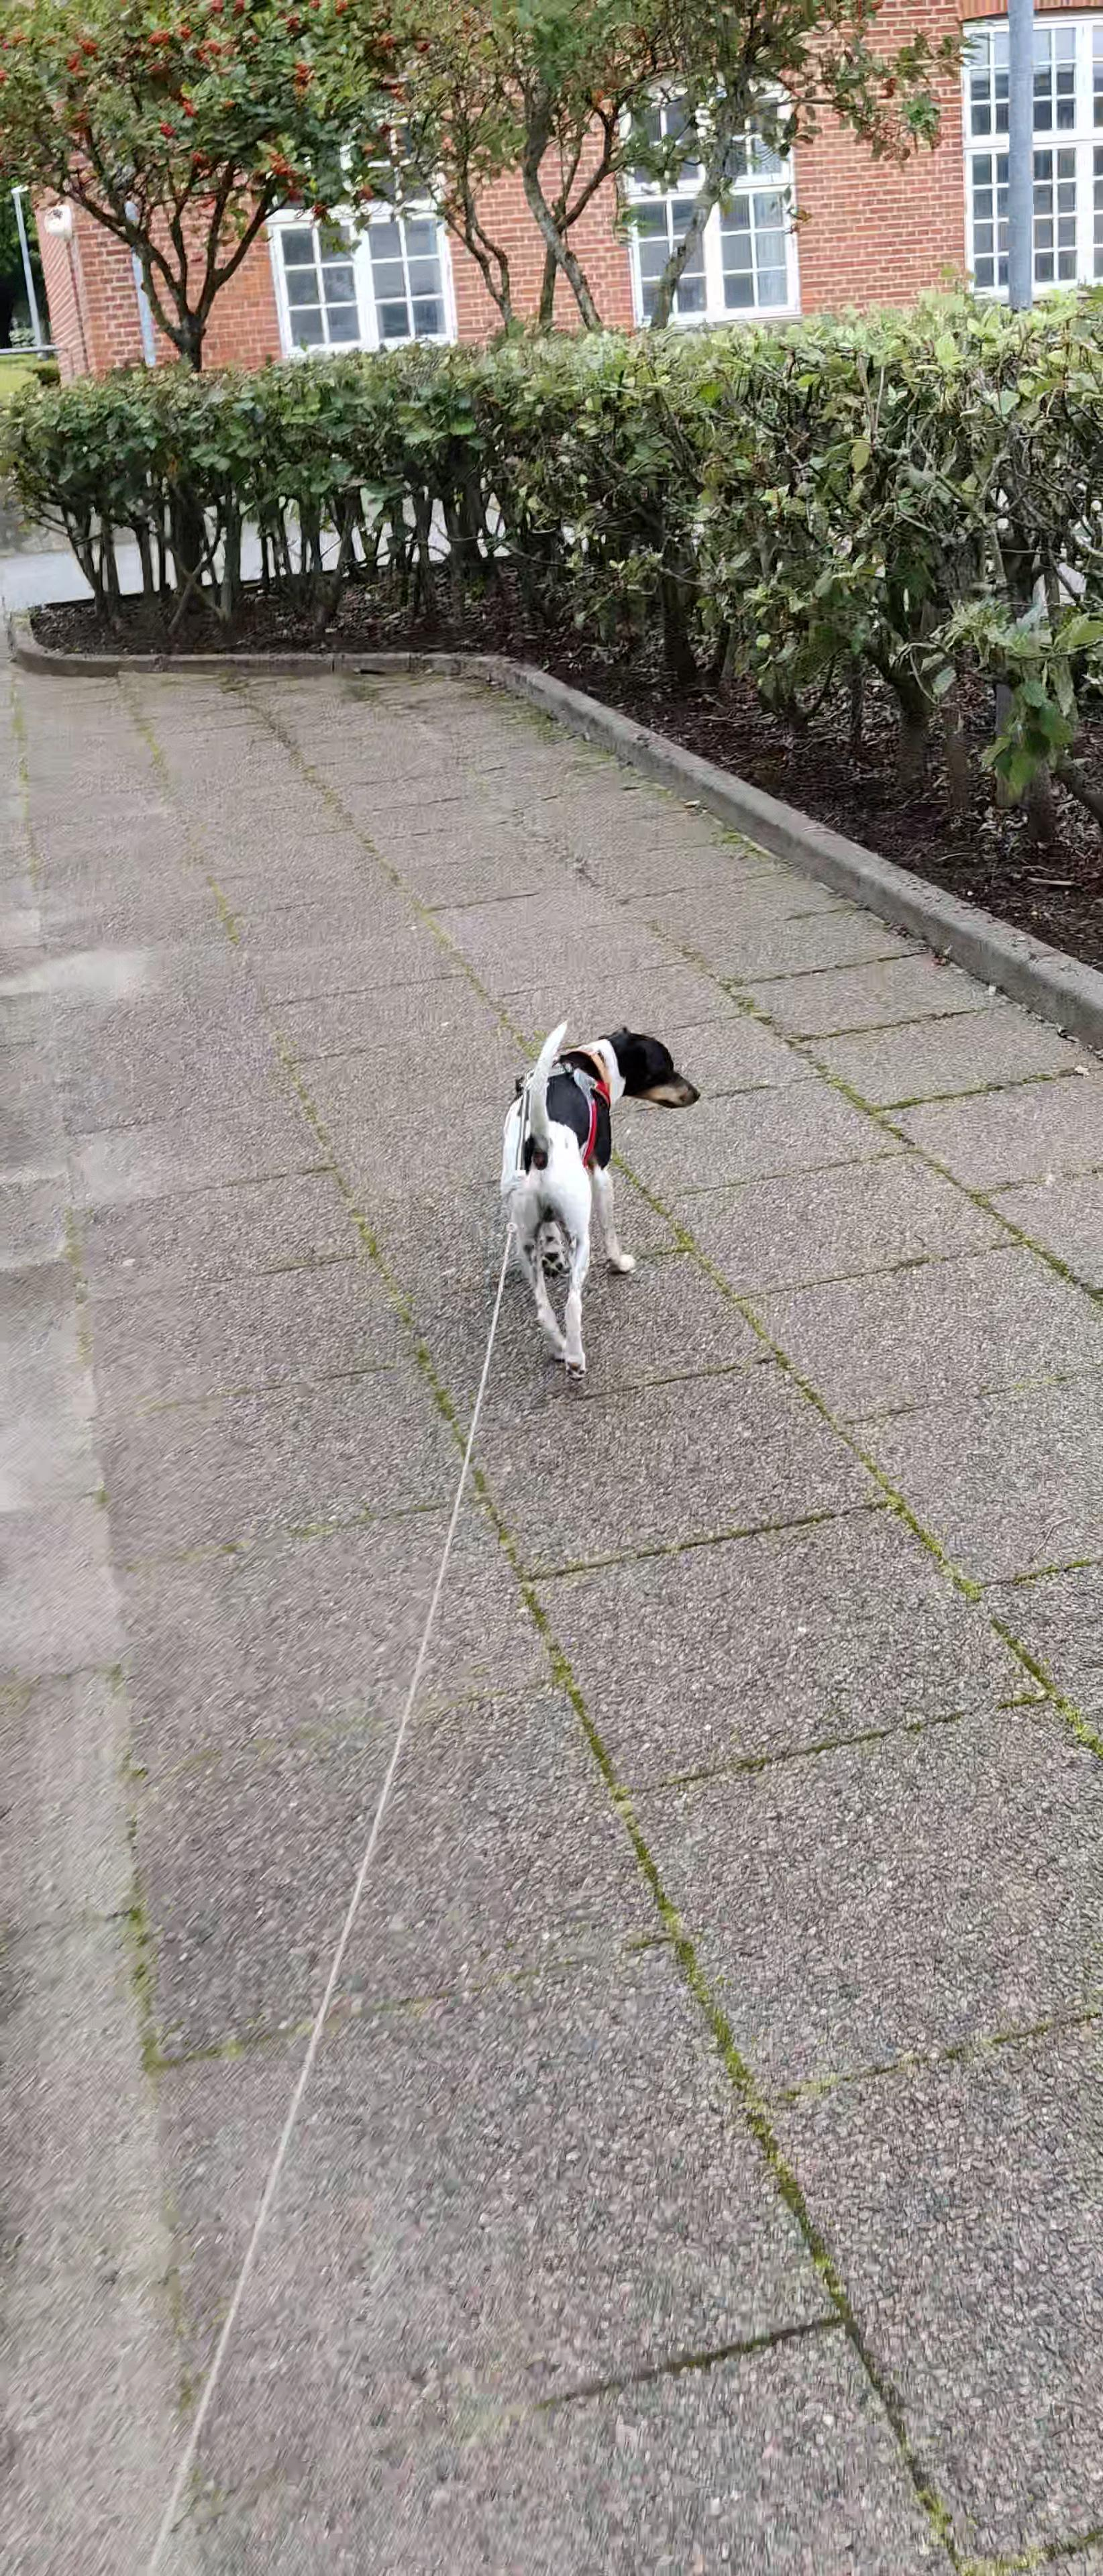Dog: (490, 1009, 707, 1383)
